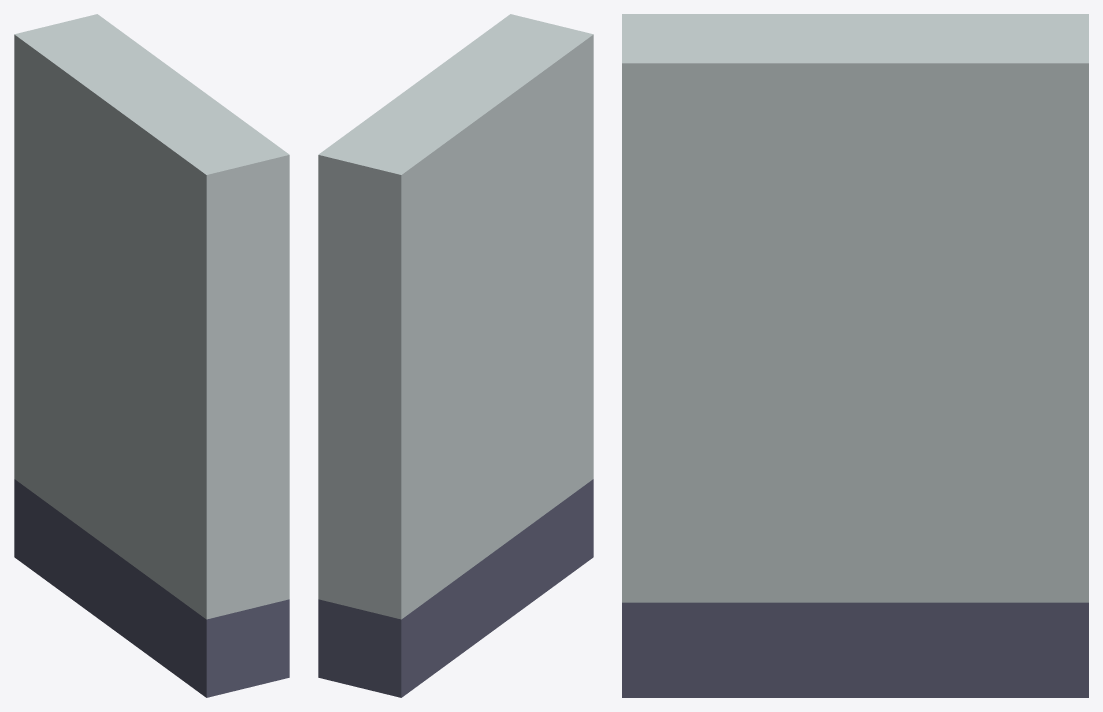
Rendered from Wall.fbx.
3 renders of one model, left to right at view 1: azimuth 30°, elevation 25°; view 2: azimuth 150°, elevation 25°; view 3: azimuth 270°, elevation 25°, orthographic. The views are drawn at different scales.
Visible parts, largest first — view 1: Wall 2x3; view 2: Wall 2x3; view 3: Wall 2x3.
Part boxes in pixels (x1,y1,x2,y2): Wall 2x3: [14, 14, 289, 697]; Wall 2x3: [318, 14, 593, 697]; Wall 2x3: [622, 14, 1088, 697].
Bounding box in the file's own units: 50 × 300 × 200.
